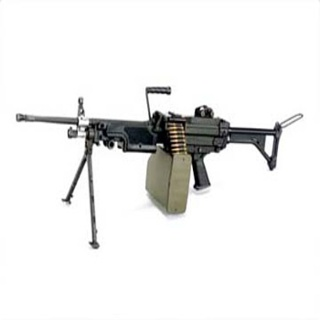rifle: (16, 85, 283, 249)
